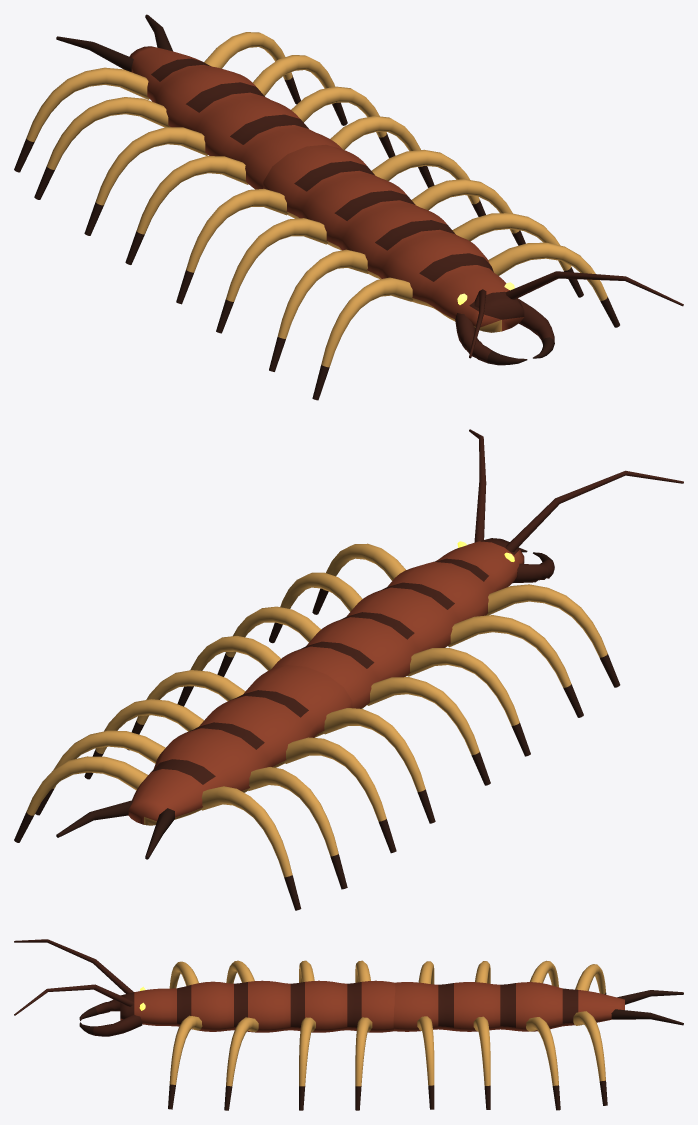
The model's file is centipede.glb.
3 views of the same model, one above another, from view 1: azimuth 30°, elevation 25°; view 2: azimuth 150°, elevation 25°; view 3: azimuth 270°, elevation 25° (orthographic). The views are drawn at different scales.
Visible parts, largest first — view 1: BodyFront, BodyBack, Leg7R_Mesh, Leg6R_Mesh, Leg5R_Mesh, Leg4R_Mesh, Leg2R_Mesh, Leg3R_Mesh, Leg0L_Mesh, Leg0R_Mesh, Leg1R_Mesh, Leg1L_Mesh (+10 smaller); view 2: BodyFront, BodyBack, Leg1R_Mesh, Leg0R_Mesh, Leg3R_Mesh, Leg2R_Mesh, Leg7L_Mesh, Leg4R_Mesh, Leg5R_Mesh, Leg7R_Mesh, Leg6R_Mesh, Leg6L_Mesh (+10 smaller); view 3: BodyFront, BodyBack, Leg7L_Mesh, Leg6L_Mesh, Leg1L_Mesh, Leg0L_Mesh, Leg4L_Mesh, Leg3L_Mesh, Leg5L_Mesh, Leg2L_Mesh, ForcipuleL, AntennaR (+12 smaller).
Part boxes in pixels (x1,y1,x2,y2): BodyFront: (263, 144, 524, 332); BodyBack: (129, 46, 342, 189); Leg7R_Mesh: (14, 67, 149, 172); Leg6R_Mesh: (34, 97, 170, 199); Leg5R_Mesh: (84, 127, 207, 235); Leg4R_Mesh: (125, 156, 248, 264); Leg2R_Mesh: (216, 218, 328, 333); Leg3R_Mesh: (176, 188, 288, 304); Leg0L_Mesh: (488, 242, 619, 327); Leg0R_Mesh: (312, 277, 413, 400); Leg1R_Mesh: (269, 249, 368, 371); Leg1L_Mesh: (452, 213, 583, 297); BodyFront: (272, 538, 524, 708); BodyBack: (128, 665, 352, 825); Leg1R_Mesh: (448, 615, 583, 717); Leg0R_Mesh: (486, 584, 620, 687); Leg3R_Mesh: (367, 677, 490, 785); Leg2R_Mesh: (407, 648, 530, 756); Leg7L_Mesh: (14, 756, 147, 842); Leg4R_Mesh: (323, 708, 435, 823); Leg5R_Mesh: (284, 737, 396, 853); Leg7R_Mesh: (201, 786, 301, 910); Leg6R_Mesh: (247, 767, 347, 889); Leg6L_Mesh: (35, 730, 165, 815); BodyFront: (120, 980, 395, 1032); BodyBack: (393, 982, 624, 1031); Leg7L_Mesh: (573, 1011, 607, 1105); Leg6L_Mesh: (526, 1017, 560, 1110); Leg1L_Mesh: (224, 1017, 258, 1110); Leg0L_Mesh: (168, 1015, 202, 1109); Leg4L_Mesh: (417, 1016, 434, 1109); Leg3L_Mesh: (355, 1017, 372, 1110); Leg5L_Mesh: (473, 1016, 490, 1109); Leg2L_Mesh: (299, 1017, 315, 1110); ForcipuleL: (79, 1014, 142, 1036); AntennaR: (14, 939, 133, 993).
Size of the model in its own units: 1.09 by 0.4428 by 2.85.
